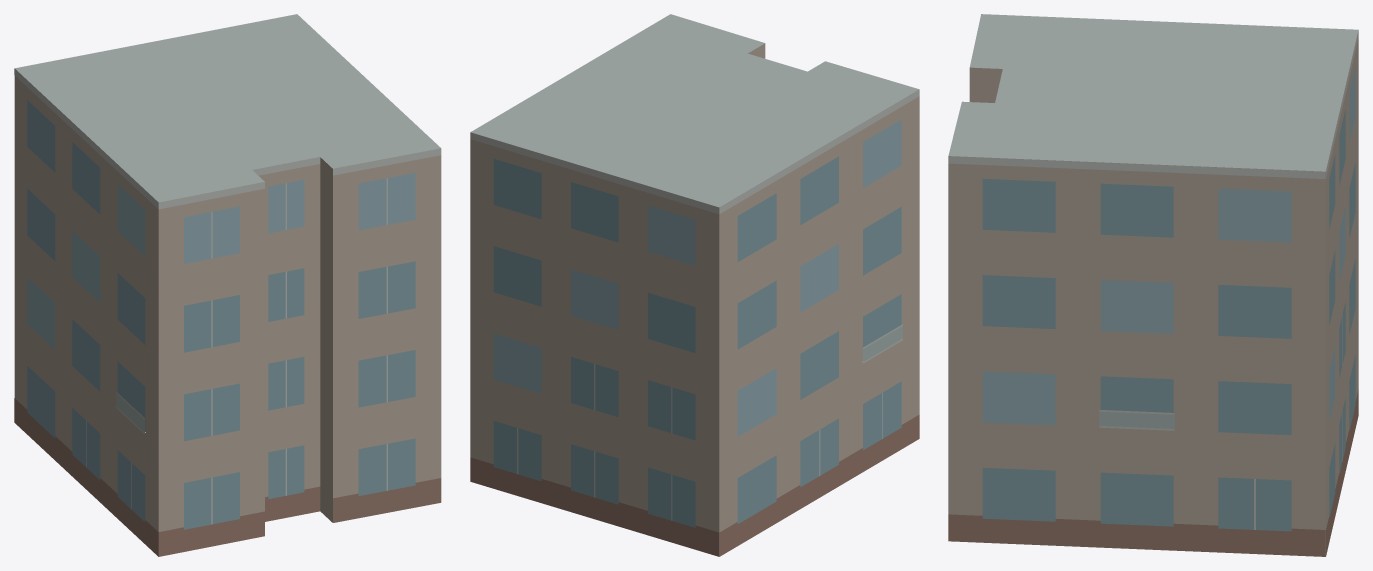
Rendered from survey-upis-32533174.glb.
3 views of the same model, side by side, from view 1: azimuth 30°, elevation 25°; view 2: azimuth 150°, elevation 25°; view 3: azimuth 270°, elevation 25° (orthographic). The views are drawn at different scales.
Visible parts, largest first — view 1: survey-upis-32533174.tmp; view 2: survey-upis-32533174.tmp; view 3: survey-upis-32533174.tmp.
Boxes of the visible parts, x1,y1,x2,y2 form: survey-upis-32533174.tmp: (14, 14, 441, 556); survey-upis-32533174.tmp: (470, 14, 919, 556); survey-upis-32533174.tmp: (948, 14, 1358, 556).
Size of the model in its own units: 10.98 by 12.5 by 12.07.
